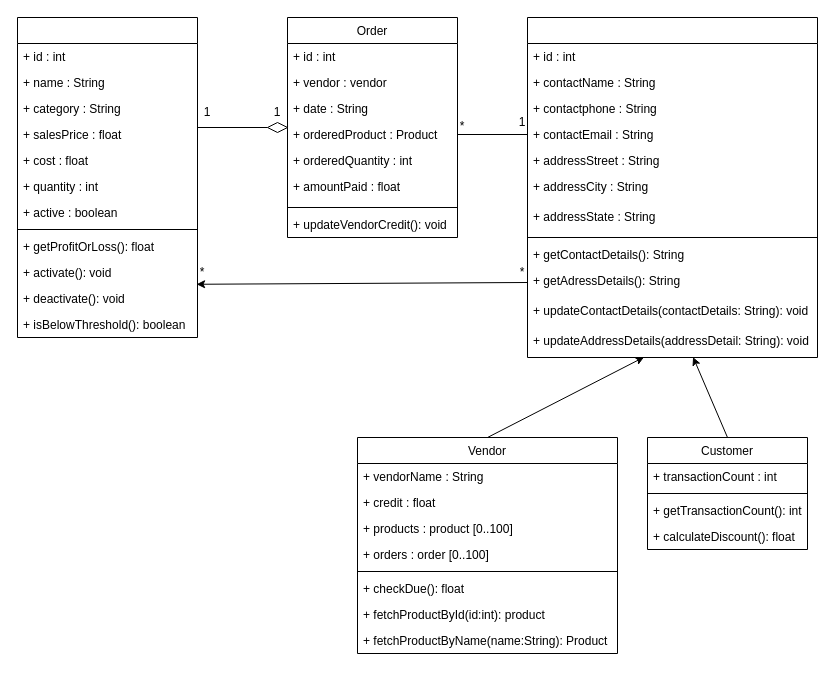
Image size: 835x674. Some labels were removed from this diagram. The shapes that lost their labels are listed below. From the top down, each one's box as (x1, y1, x2, y2) in pixels, then its label:
(16, 16, 198, 338): Product
(526, 16, 818, 358): BusinessPartner
